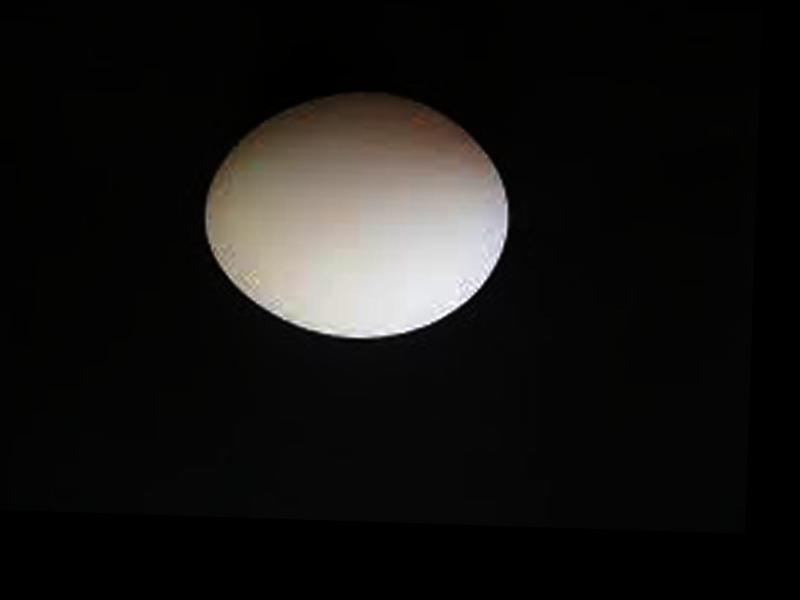Eggs: (197, 88, 505, 342)
